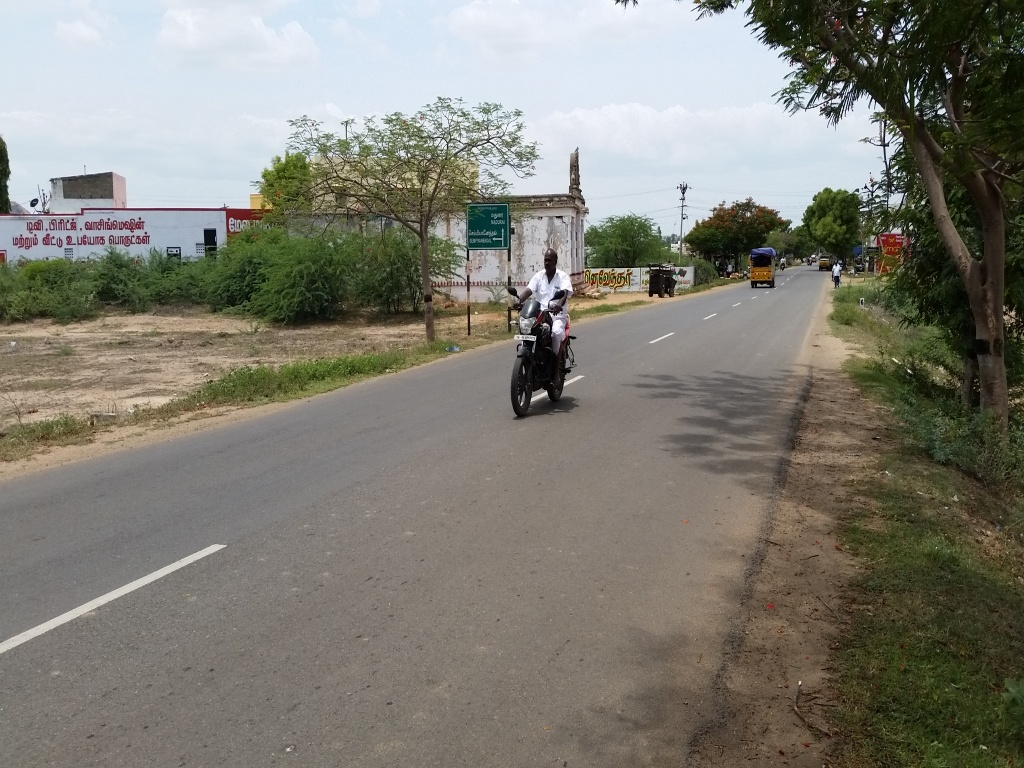biker: (488, 220, 600, 433)
nohelmet: (538, 243, 566, 286)
